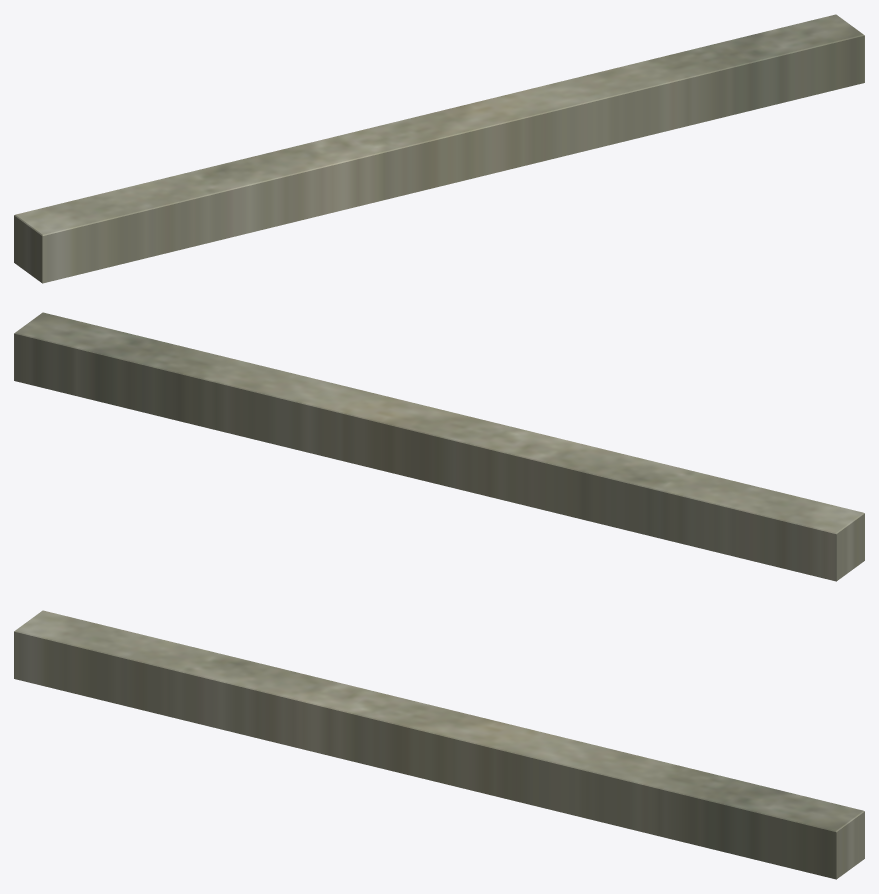
File: f03-t-stone-edge-south.glb
The picture shows the model from 3 angles, top to bottom: view 1: azimuth 30°, elevation 25°; view 2: azimuth 150°, elevation 25°; view 3: azimuth 330°, elevation 25°; orthographic projection.
Parts seen in each view (by area): view 1: f03-t-stone-edge-south; view 2: f03-t-stone-edge-south; view 3: f03-t-stone-edge-south.
Part boxes in pixels (bbox=[...]): f03-t-stone-edge-south: bbox=[14, 14, 864, 283]; f03-t-stone-edge-south: bbox=[14, 312, 864, 581]; f03-t-stone-edge-south: bbox=[14, 610, 864, 879].
Bounding box in the file's own units: 1 × 0.056 × 0.06.
1 material, 1 textured.
